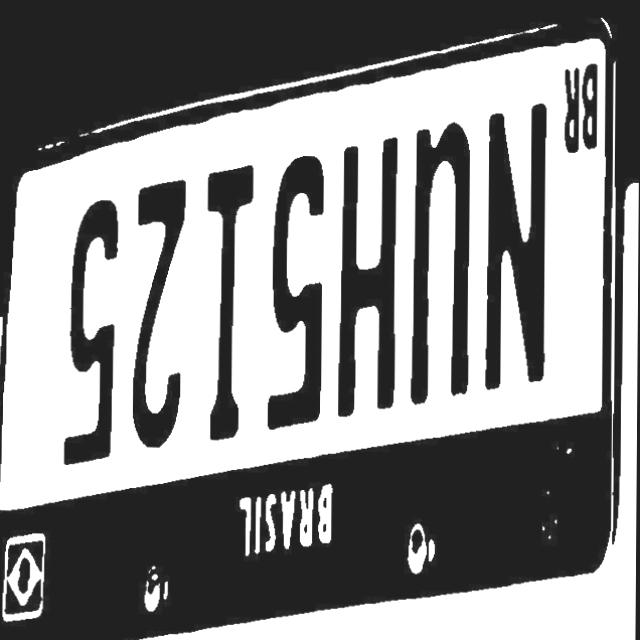2: (117, 183, 192, 471)
5: (258, 162, 329, 451), (52, 210, 117, 481)
h: (332, 143, 406, 433)
i: (193, 171, 257, 460)
n: (478, 94, 553, 403)
u: (405, 118, 480, 422)
